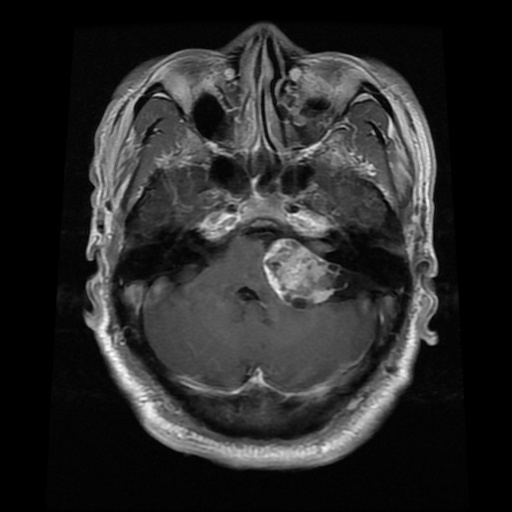meningioma: (263, 237, 351, 304)
